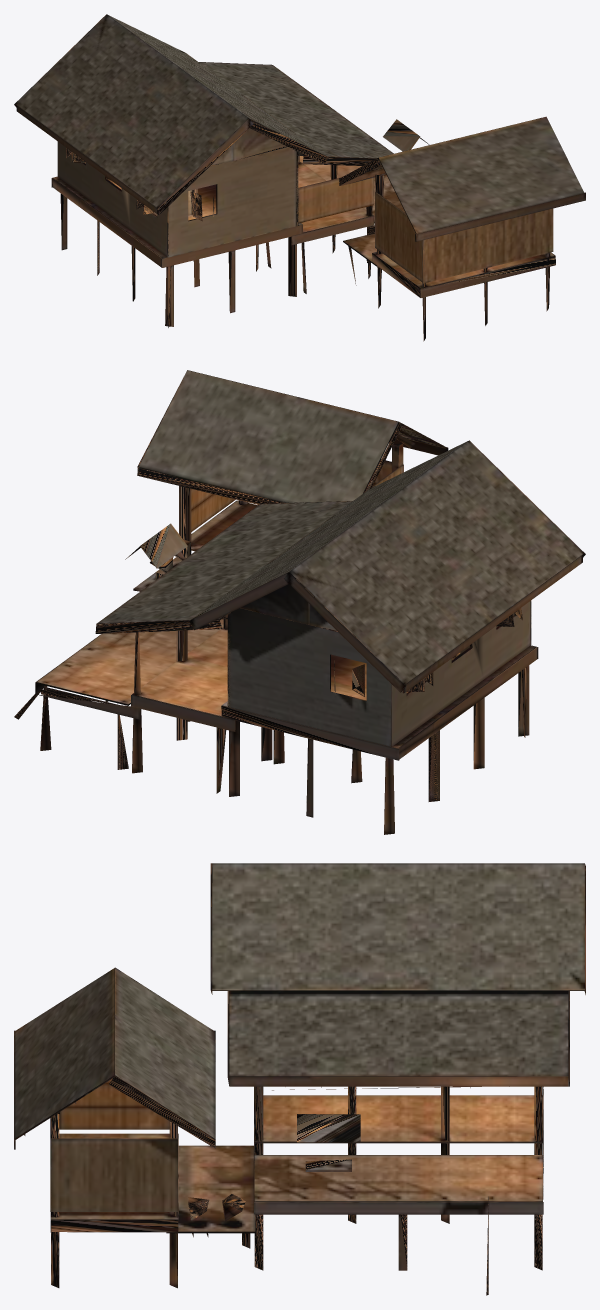
Rendered from nha-san-go.glb.
3 renders of one model, top to bottom at view 1: azimuth 30°, elevation 25°; view 2: azimuth 150°, elevation 25°; view 3: azimuth 270°, elevation 25°, orthographic. The views are drawn at different scales.
Visible parts, largest first — view 1: Object_4; view 2: Object_4; view 3: Object_4.
Part boxes in pixels (<box>): Object_4: <box>14,14,585,341</box>; Object_4: <box>14,370,585,834</box>; Object_4: <box>14,863,585,1295</box>.
Size of the model in its own units: 0.9336 by 0.5201 by 0.9955.
1 material, 1 textured.
